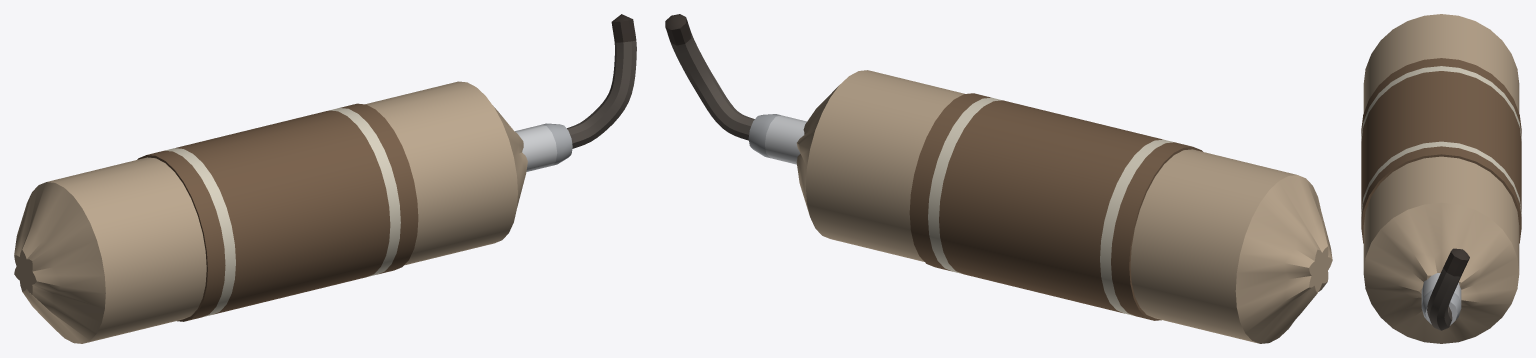
File: dynamite_d_stick_tan.glb
3 views of the same model, side by side, from view 1: azimuth 30°, elevation 25°; view 2: azimuth 150°, elevation 25°; view 3: azimuth 270°, elevation 25° (orthographic). The views are drawn at different scales.
Visible parts, largest first — view 1: Dynamite; view 2: Dynamite; view 3: Dynamite.
Boxes of the visible parts, x1,y1,x2,y2 form: Dynamite: (14, 14, 636, 343); Dynamite: (665, 14, 1332, 343); Dynamite: (1361, 14, 1521, 343).
Bounding box in the file's own units: 0.7039 × 0.1956 × 0.169.
